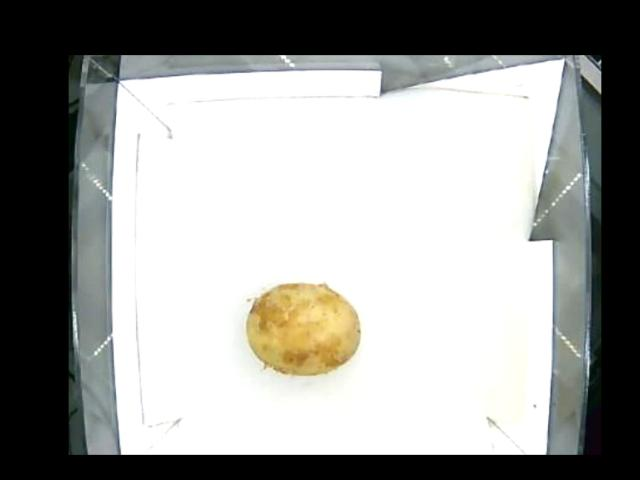Potato: (246, 280, 363, 376)
